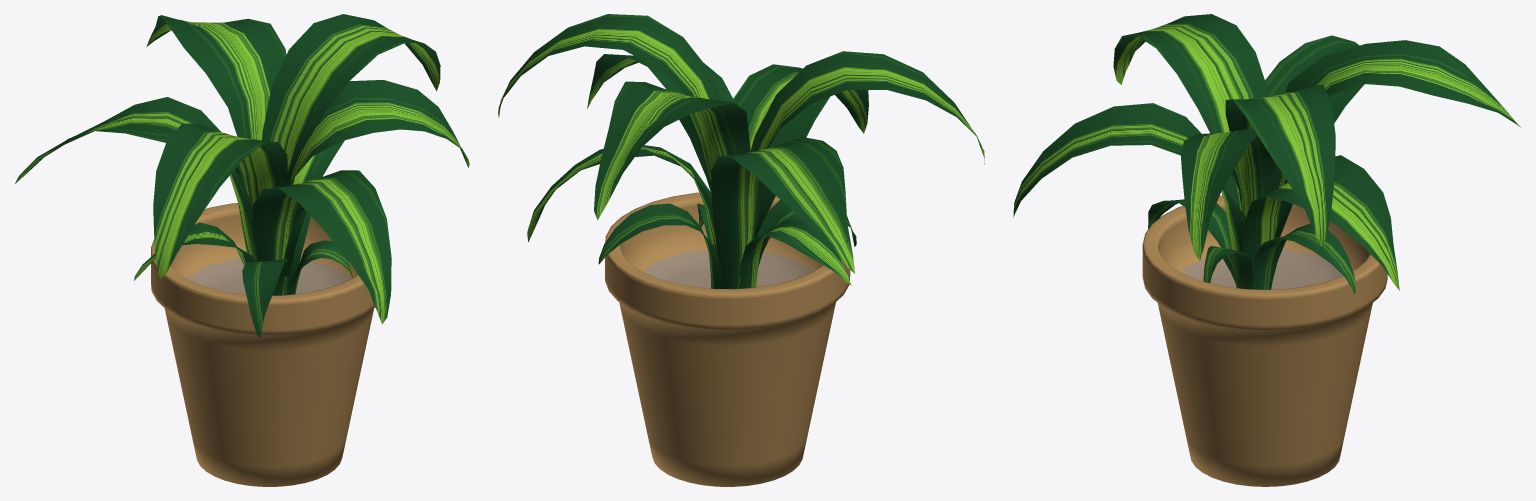
File: flowerpot.gltf
The picture shows the model from 3 angles, left to right: view 1: azimuth 30°, elevation 25°; view 2: azimuth 150°, elevation 25°; view 3: azimuth 270°, elevation 25°; orthographic projection. The views are drawn at different scales.
Parts seen in each view (by area): view 1: leaf_Plane.010, maceta_Cylinder; view 2: leaf_Plane.010, maceta_Cylinder; view 3: leaf_Plane.010, maceta_Cylinder.
Part boxes in pixels (box(x1,y1,x2,y2)): leaf_Plane.010: box(15, 14, 469, 338); maceta_Cylinder: box(151, 203, 375, 486); leaf_Plane.010: box(498, 14, 984, 288); maceta_Cylinder: box(605, 192, 850, 486); leaf_Plane.010: box(1013, 14, 1520, 294); maceta_Cylinder: box(1142, 195, 1387, 486).
Size of the model in its own units: 0.5866 by 0.5777 by 0.6523.
3 materials, 1 textured.
